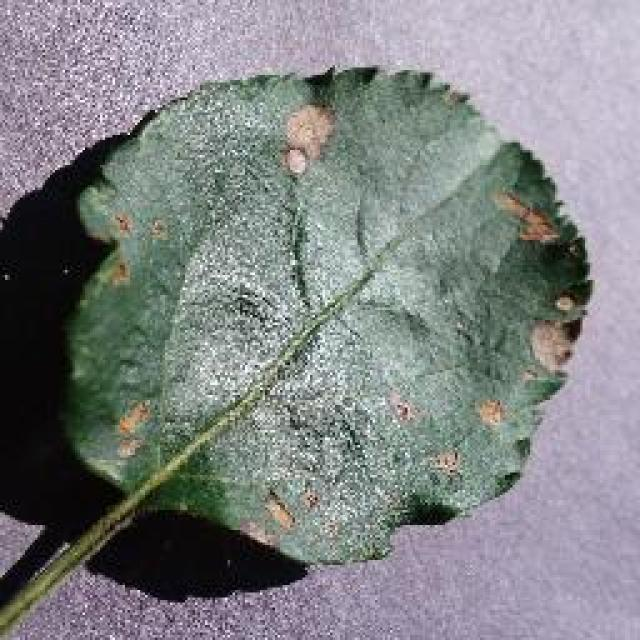black_rot: (280, 90, 350, 190), (490, 176, 566, 249), (523, 281, 577, 379), (96, 387, 152, 464), (249, 475, 312, 539), (462, 396, 508, 434)
